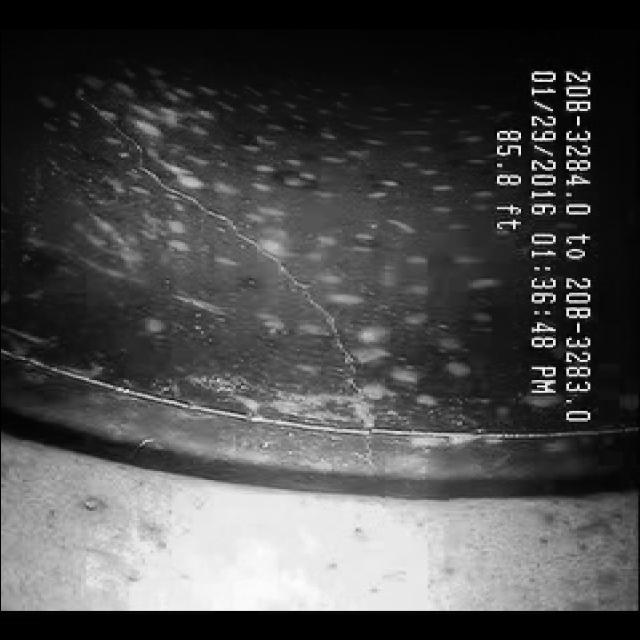Crack: (126, 172, 406, 385)
